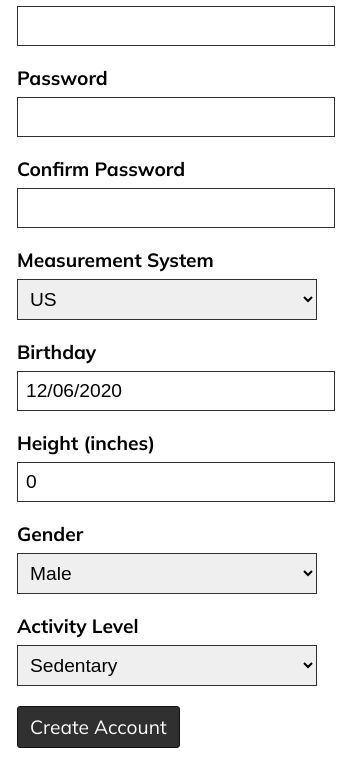
Scenario: <Register /> › it validates the form on submit
(page scrolled)
Click the button "Create Account" at {"x": 98, "y": 727}, box [17,706,180,748]
(page scrolled)
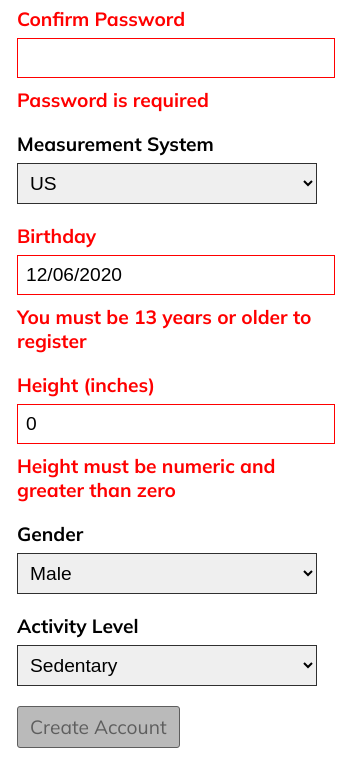
Expected: the text "You must be 13 years or older to register" is shown, [17,305,335,353]
Expected: the text "Height must be numeric and greater than zero" is shown, [17,454,275,502]
Expected: the button "Create Account" is disabled, [17,706,180,748]
